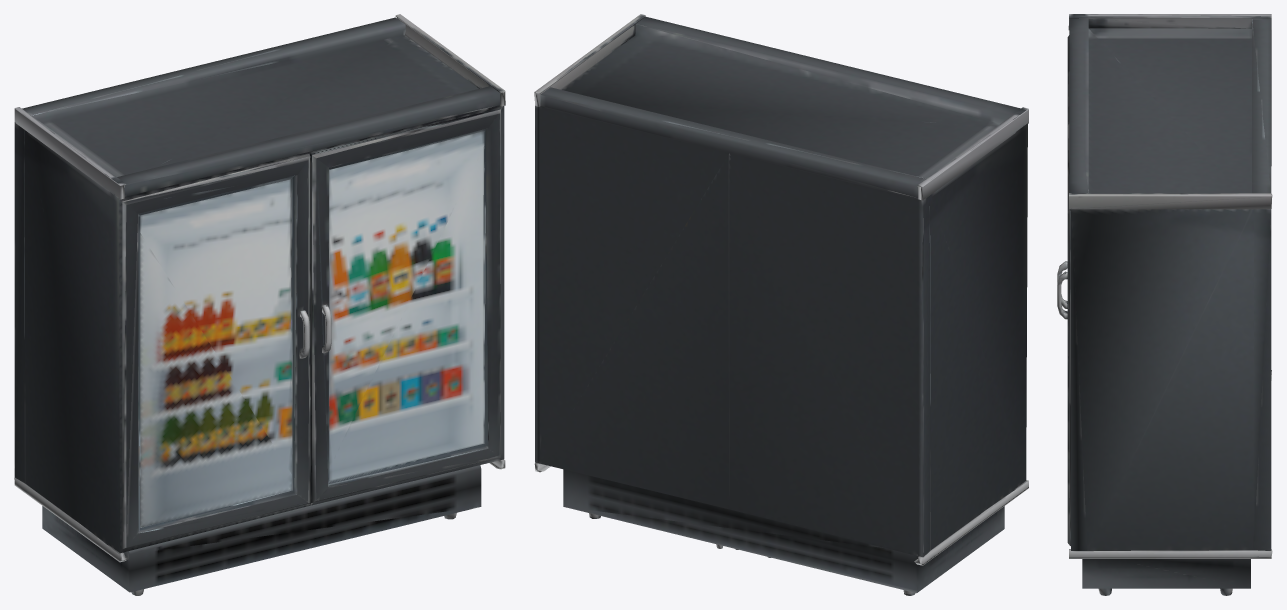
File: interior-store-chiller.glb
The picture shows the model from 3 angles, left to right: view 1: azimuth 30°, elevation 25°; view 2: azimuth 150°, elevation 25°; view 3: azimuth 270°, elevation 25°; orthographic projection. The views are drawn at different scales.
Bounding box in the file's own units: 0.8931 × 0.9512 × 0.4463.
Materials: 1 (1 with a texture image).
